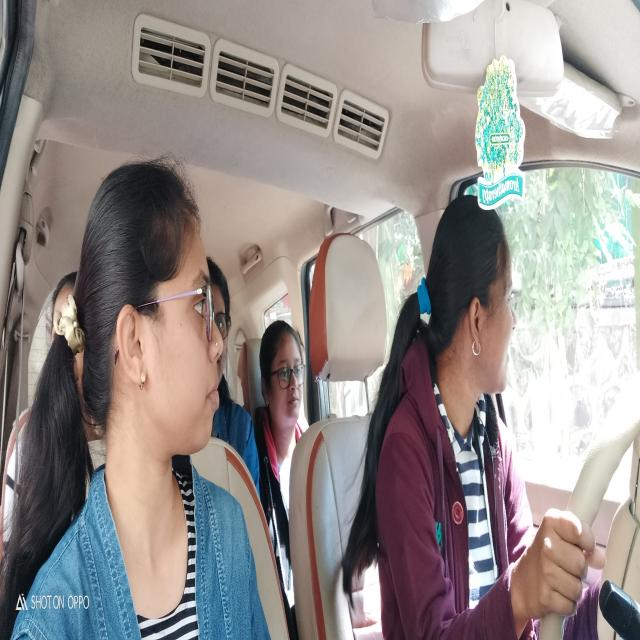LeftRight: (425, 175, 527, 438)
person: (83, 142, 225, 500), (259, 312, 312, 447), (211, 249, 238, 381)
